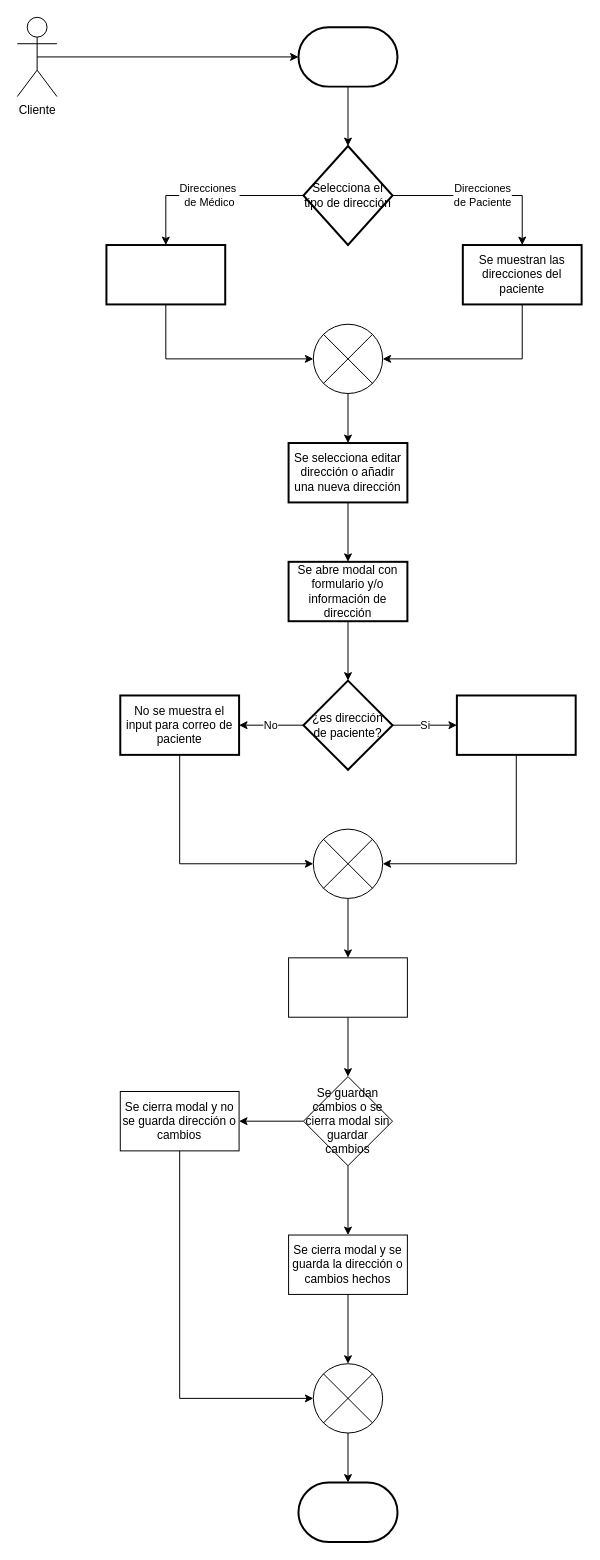
Some shapes in this 600 by 1560 pixel diagram are drawn without their labels. Each missing label, with the box of its shape:
Ingresa a Direcciones de entrega: (297, 26, 398, 87)
Se edita o se llena la información: (288, 957, 407, 1017)
Se muestra input para correo de paciente: (455, 694, 576, 755)
Se muestran las direcciones del médico: (105, 244, 226, 305)
Se termina flujo: (297, 1481, 398, 1542)
